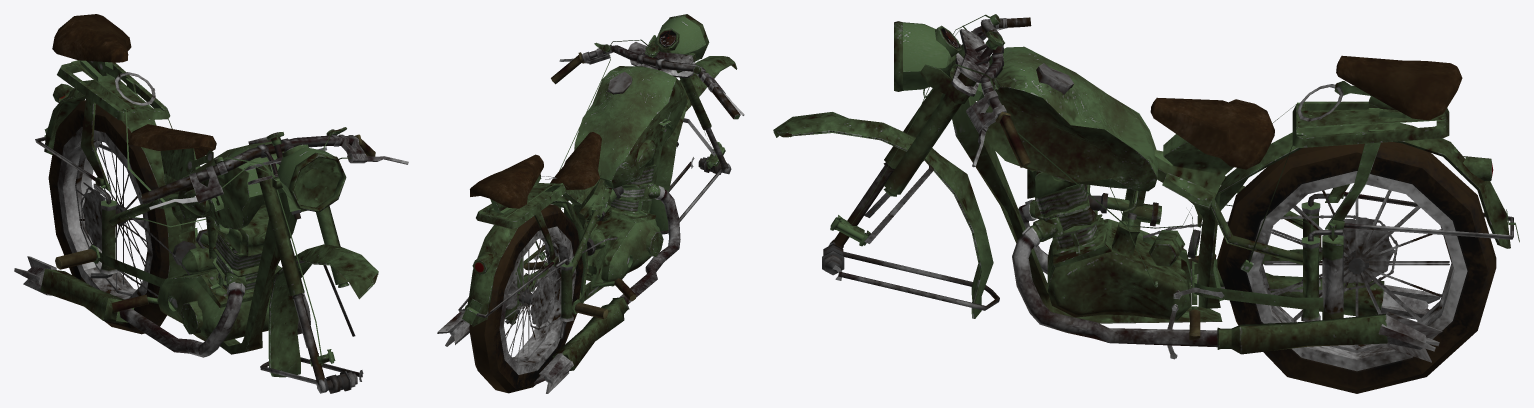
File: Bg_bike_Broken_02.fbx
3 views of the same model, side by side, from view 1: azimuth 30°, elevation 25°; view 2: azimuth 150°, elevation 25°; view 3: azimuth 270°, elevation 25° (orthographic). The views are drawn at different scales.
Visible parts, largest first — view 1: Bg_bike_Broken_02; view 2: Bg_bike_Broken_02; view 3: Bg_bike_Broken_02.
Boxes of the visible parts, <box> form: Bg_bike_Broken_02: <box>14,14,408,393</box>; Bg_bike_Broken_02: <box>437,14,744,393</box>; Bg_bike_Broken_02: <box>773,14,1519,393</box>.
Size of the model in its own units: 106 by 131 by 241.
